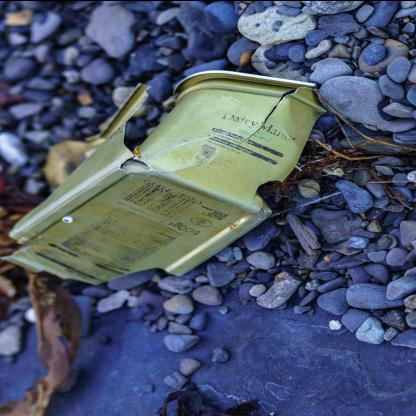plastik: (0, 67, 327, 286)
